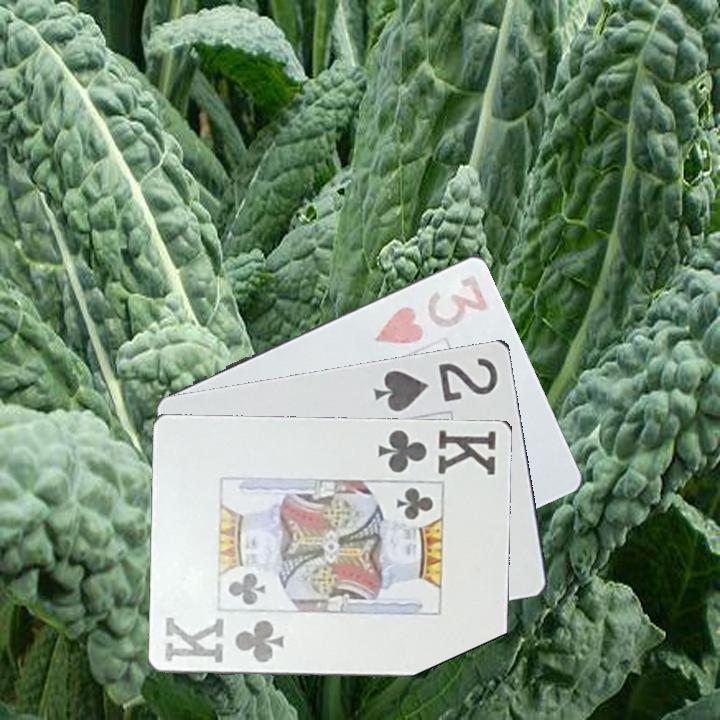2s: (370, 353, 502, 414)
3h: (371, 269, 491, 347)
Kc: (161, 613, 288, 665), (374, 425, 500, 477)
